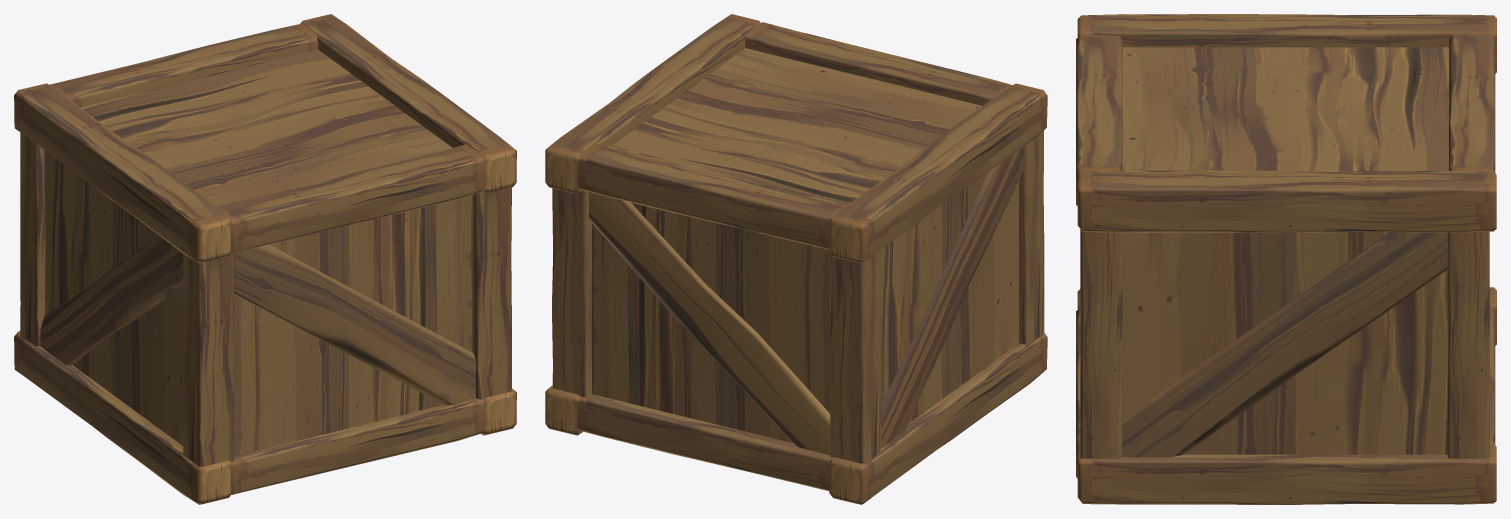
The model's file is SM_PROP_crate_town_01.fbx.
The picture shows the model from 3 angles, left to right: view 1: azimuth 30°, elevation 25°; view 2: azimuth 150°, elevation 25°; view 3: azimuth 270°, elevation 25°; orthographic projection. The views are drawn at different scales.
Visible parts, largest first — view 1: SM_PROP_crate_town_01_LOD0; view 2: SM_PROP_crate_town_01_LOD0; view 3: SM_PROP_crate_town_01_LOD0.
Boxes of the visible parts, box(x1,y1,x2,y2) form: SM_PROP_crate_town_01_LOD0: box(14, 14, 516, 504); SM_PROP_crate_town_01_LOD0: box(545, 14, 1047, 504); SM_PROP_crate_town_01_LOD0: box(1076, 14, 1496, 504).
Size of what is drawn, in the model's own units: 97.04 by 81.46 by 98.1.
